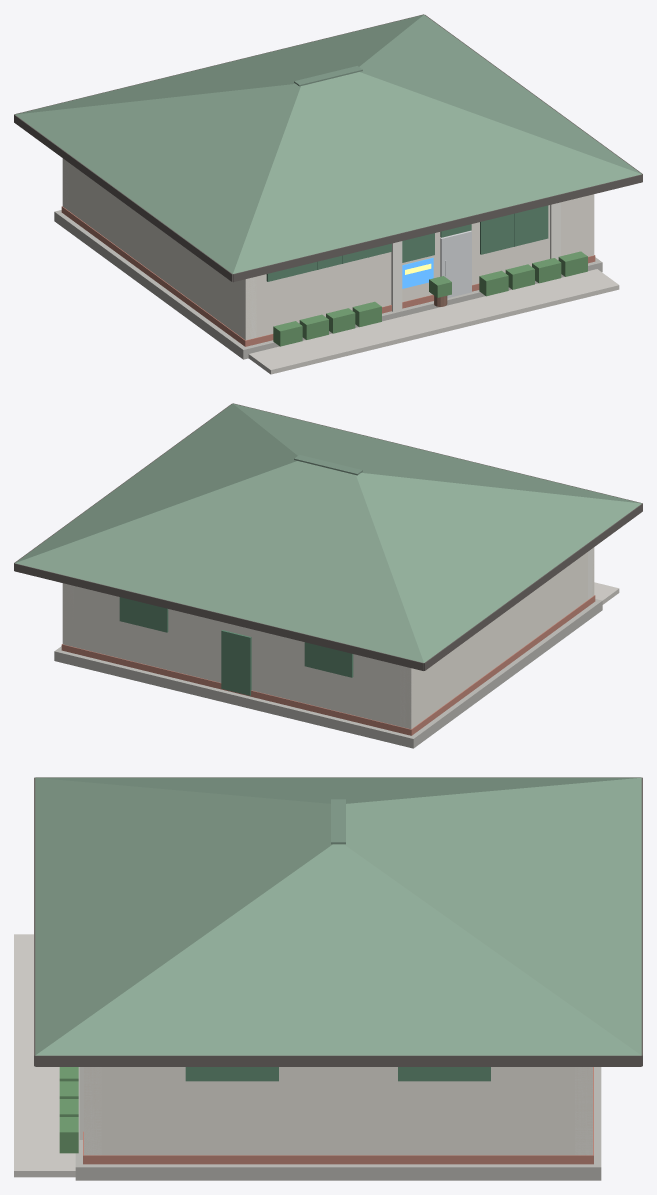
File: canteen.glb
The picture shows the model from 3 angles, top to bottom: view 1: azimuth 30°, elevation 25°; view 2: azimuth 150°, elevation 25°; view 3: azimuth 270°, elevation 25°; orthographic projection. The views are drawn at different scales.
Parts seen in each view (by area): view 1: Canteen_Roof, Canteen_Main_Masonry, Canteen_Sidewalk_Front, Mesh_Mat_Can_Fascia, Mesh_Mat_Can_Hedge, Mesh_Mat_Can_Frame, Canteen_Plinth_Base, Mesh_Mat_Can_Pilaster, Canteen_Plinth_Skirt, Mesh_Mat_Can_DoorFrame, Canteen_Selecta_Poster; view 2: Canteen_Roof, Canteen_Main_Masonry, Canteen_Plinth_Base, Mesh_Mat_Can_Fascia, Mesh_Mat_Can_Frame, Canteen_Plinth_Skirt, Mesh_Mat_Can_Pilaster; view 3: Canteen_Roof, Canteen_Main_Masonry, Canteen_Plinth_Base, Mesh_Mat_Can_Fascia, Canteen_Sidewalk_Front, Canteen_Plinth_Skirt, Mesh_Mat_Can_Pilaster, Mesh_Mat_Can_Frame, Mesh_Mat_Can_Hedge, Canteen_RidgeCap_Main.
Boxes of the visible parts, left/top/right/bottom form: Canteen_Roof: left=15, top=15, right=641, bottom=273; Canteen_Main_Masonry: left=62, top=158, right=594, bottom=340; Canteen_Sidewalk_Front: left=248, top=269, right=619, bottom=374; Mesh_Mat_Can_Fascia: left=14, top=14, right=642, bottom=282; Mesh_Mat_Can_Hedge: left=273, top=251, right=587, bottom=346; Mesh_Mat_Can_Frame: left=266, top=205, right=548, bottom=281; Canteen_Plinth_Base: left=54, top=210, right=602, bottom=359; Mesh_Mat_Can_Pilaster: left=62, top=159, right=560, bottom=339; Canteen_Plinth_Skirt: left=61, top=206, right=595, bottom=346; Mesh_Mat_Can_DoorFrame: left=440, top=231, right=471, bottom=298; Canteen_Selecta_Poster: left=402, top=257, right=433, bottom=288; Canteen_Roof: left=15, top=403, right=641, bottom=662; Canteen_Main_Masonry: left=62, top=547, right=594, bottom=729; Canteen_Plinth_Base: left=54, top=599, right=602, bottom=748; Mesh_Mat_Can_Fascia: left=14, top=403, right=642, bottom=670; Mesh_Mat_Can_Frame: left=119, top=597, right=353, bottom=695; Canteen_Plinth_Skirt: left=61, top=595, right=595, bottom=735; Mesh_Mat_Can_Pilaster: left=62, top=548, right=593, bottom=728; Canteen_Roof: left=35, top=777, right=641, bottom=1055; Canteen_Main_Masonry: left=84, top=1067, right=592, bottom=1155; Canteen_Plinth_Base: left=75, top=1067, right=601, bottom=1180; Mesh_Mat_Can_Fascia: left=34, top=777, right=642, bottom=1066; Canteen_Sidewalk_Front: left=14, top=934, right=75, bottom=1177; Canteen_Plinth_Skirt: left=83, top=1067, right=593, bottom=1164; Mesh_Mat_Can_Pilaster: left=79, top=1067, right=592, bottom=1155; Mesh_Mat_Can_Frame: left=185, top=1067, right=490, bottom=1081; Mesh_Mat_Can_Hedge: left=59, top=1067, right=78, bottom=1153; Canteen_RidgeCap_Main: left=331, top=799, right=345, bottom=844.
Bounding box in the file's own units: 15.56 × 6.2 × 14.83.
